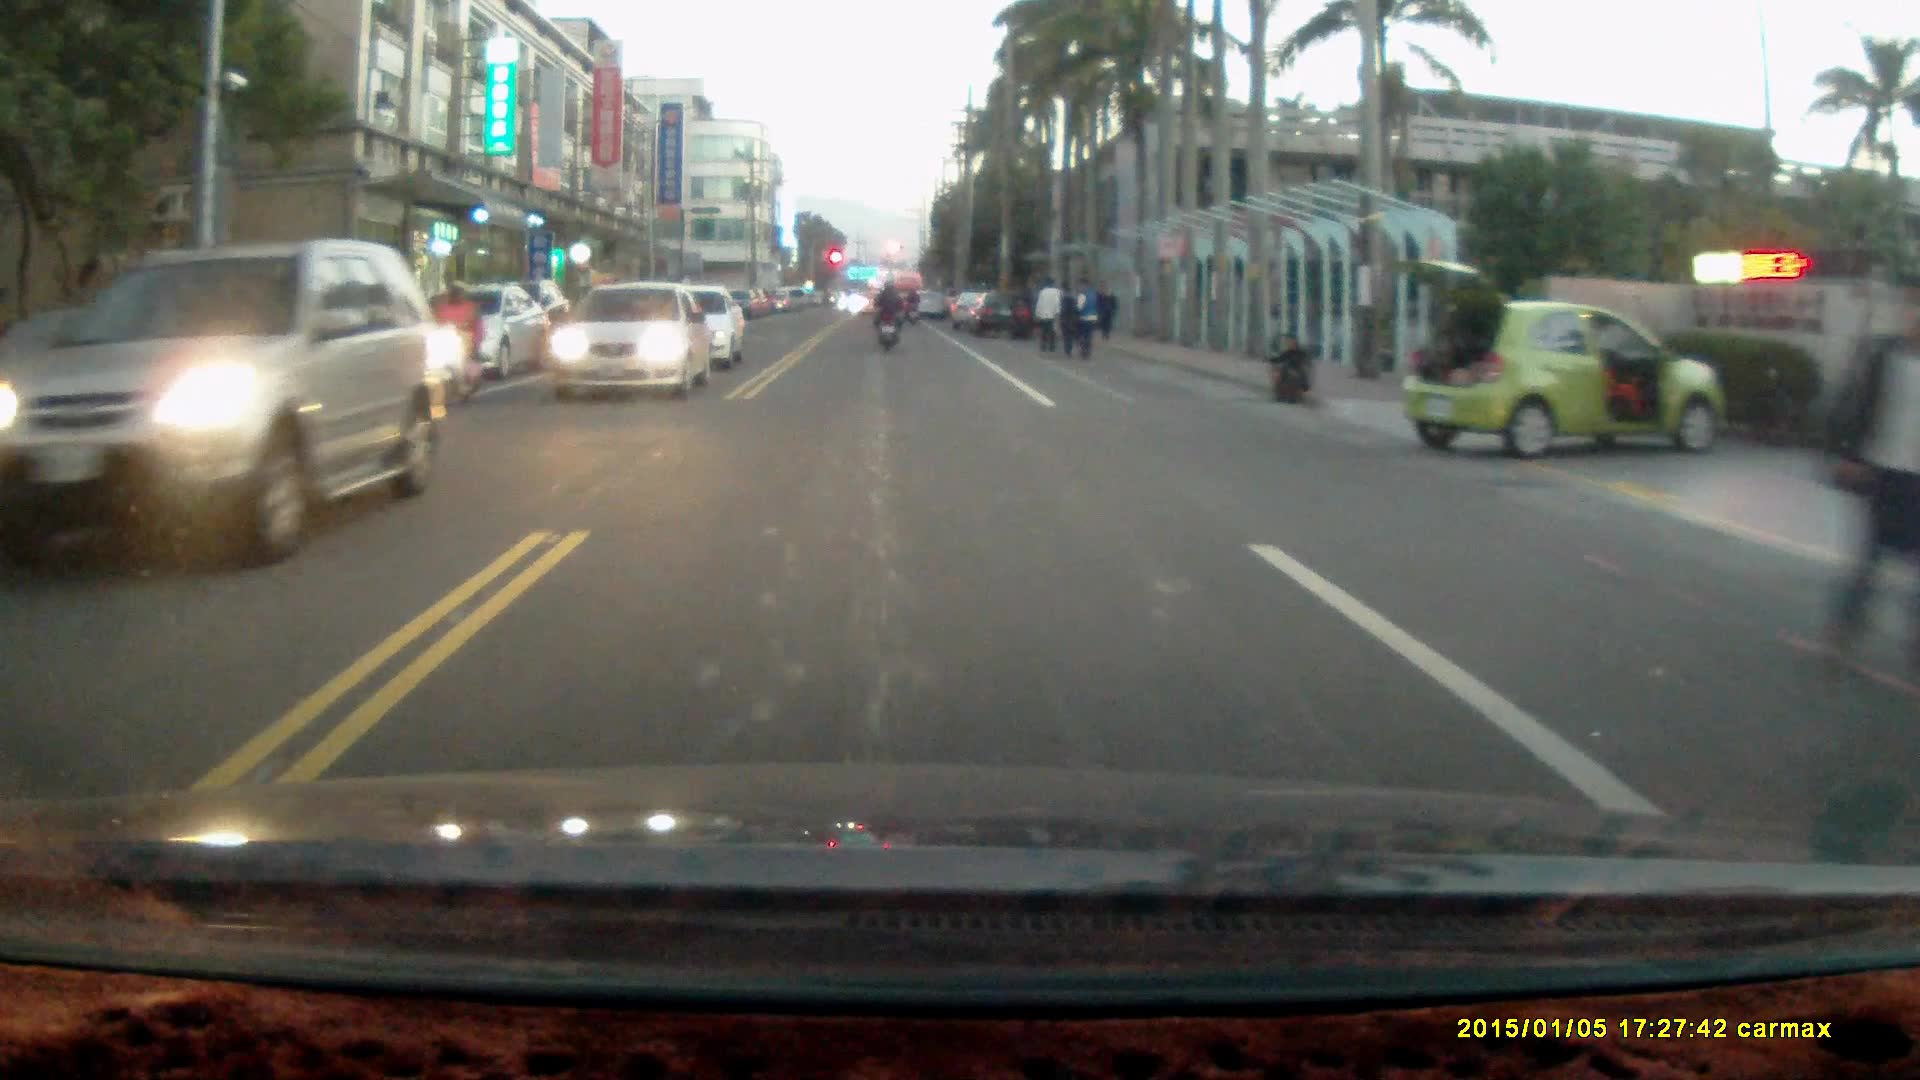pedestrian: (1810, 275, 1920, 670), (1264, 328, 1315, 407), (1064, 274, 1100, 359), (1033, 275, 1060, 361), (1052, 281, 1080, 362), (1094, 279, 1117, 339)
rider: (430, 279, 486, 411), (869, 278, 904, 356)
vehicle: (12, 238, 433, 574), (1395, 259, 1729, 461), (545, 281, 710, 411), (439, 286, 548, 393), (644, 284, 747, 373), (965, 291, 1035, 340)
